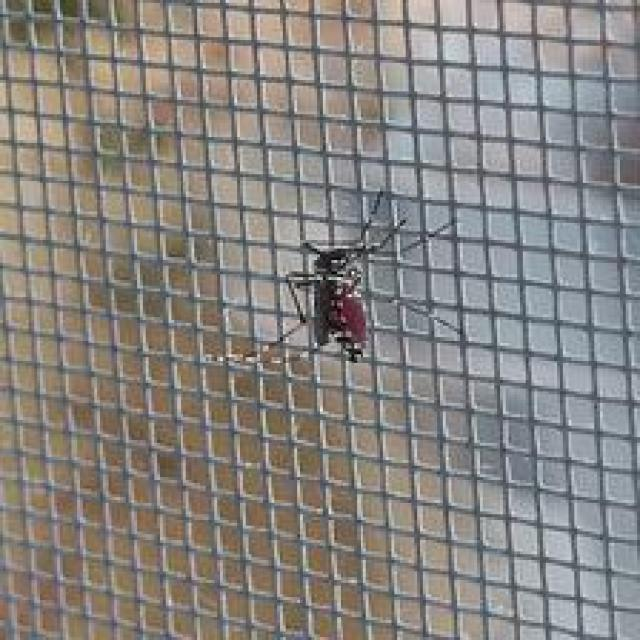Aedes albopictus: (207, 187, 464, 370)
